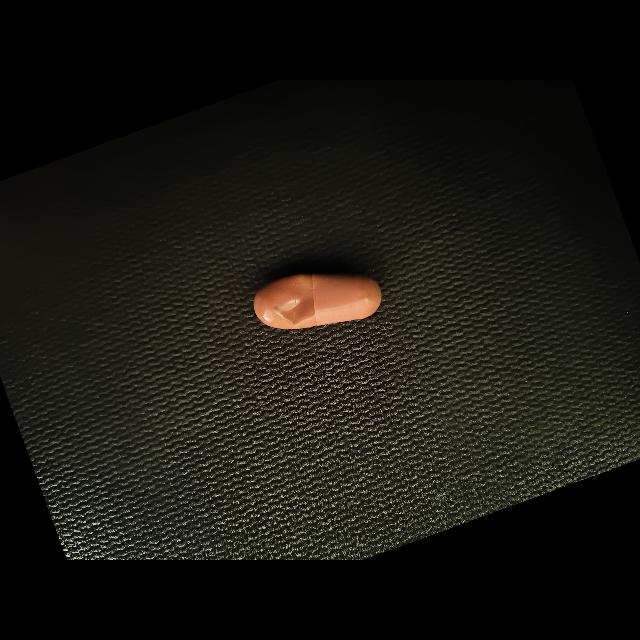Defective Capsule: (271, 274, 315, 325)
